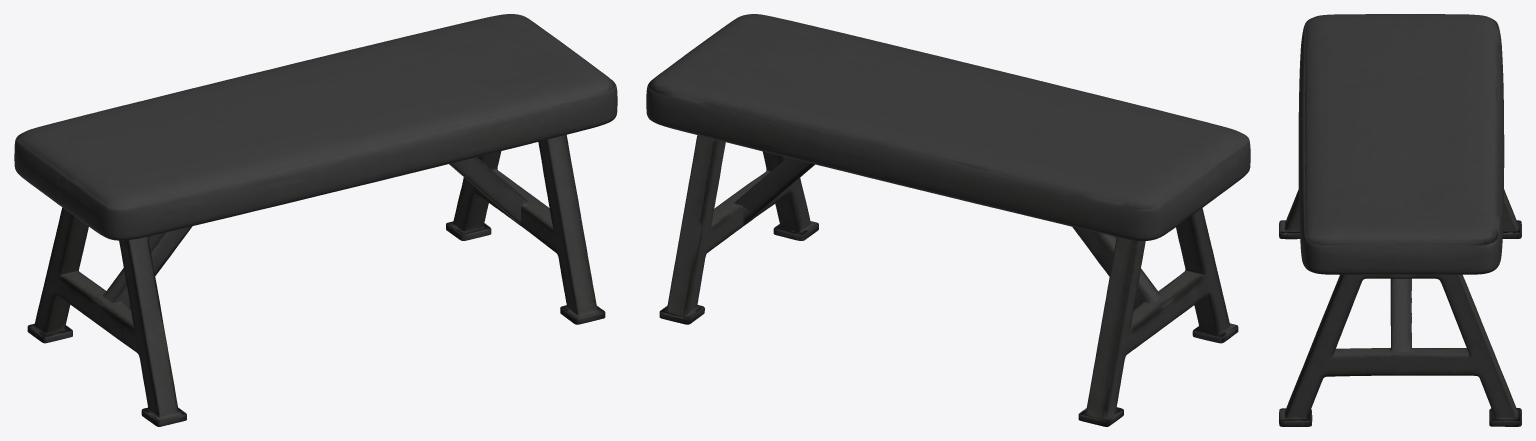
File: bench_v01.optimized.glb
3 renders of one model, left to right at view 1: azimuth 30°, elevation 25°; view 2: azimuth 150°, elevation 25°; view 3: azimuth 270°, elevation 25°, orthographic. The views are drawn at different scales.
Visible parts, largest first — view 1: tripo_node_c68f1e42-863f-4df4-92f5-f79d70ca8e8b; view 2: tripo_node_c68f1e42-863f-4df4-92f5-f79d70ca8e8b; view 3: tripo_node_c68f1e42-863f-4df4-92f5-f79d70ca8e8b.
Boxes of the visible parts, x1=… form: tripo_node_c68f1e42-863f-4df4-92f5-f79d70ca8e8b: x1=14, y1=14, x2=617, y2=426; tripo_node_c68f1e42-863f-4df4-92f5-f79d70ca8e8b: x1=646, y1=14, x2=1250, y2=426; tripo_node_c68f1e42-863f-4df4-92f5-f79d70ca8e8b: x1=1279, y1=14, x2=1521, y2=426.
Bounding box in the file's own units: 1 × 0.412 × 0.4417.
Materials: 1 (1 with a texture image).
